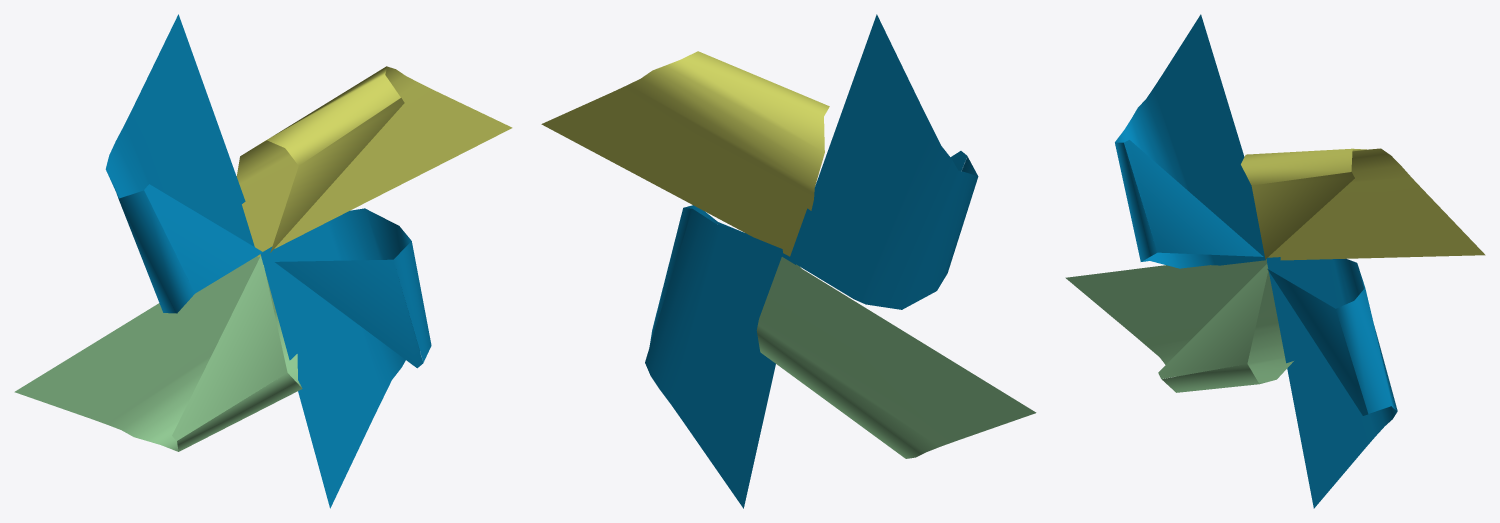
The model's file is cosa_que_gira.fbx.
The picture shows the model from 3 angles, left to right: view 1: azimuth 30°, elevation 25°; view 2: azimuth 150°, elevation 25°; view 3: azimuth 330°, elevation 25°; orthographic projection. The views are drawn at different scales.
Parts seen in each view (by area): view 1: Plane.004; view 2: Plane.004; view 3: Plane.004.
Part boxes in pixels (<box>): Plane.004: <box>14,14,512,508</box>; Plane.004: <box>541,14,1036,508</box>; Plane.004: <box>1065,14,1485,508</box>.
Size of the model in its own units: 302 by 307 by 41.35.
